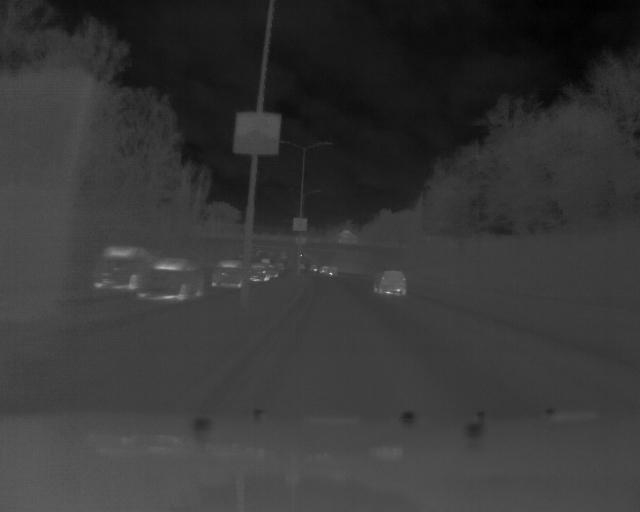car: (135, 257, 206, 303), (92, 245, 150, 294), (373, 268, 408, 297), (210, 261, 241, 292), (252, 260, 279, 284)
